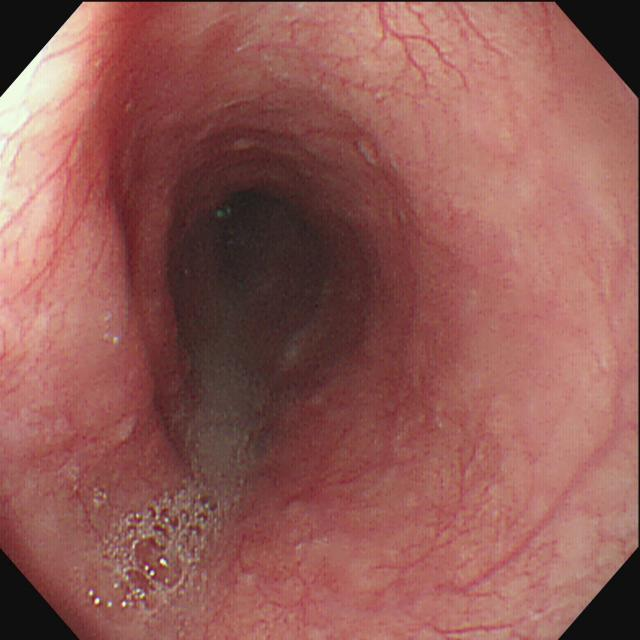E: (189, 188, 330, 340)
T: (85, 398, 261, 625)
